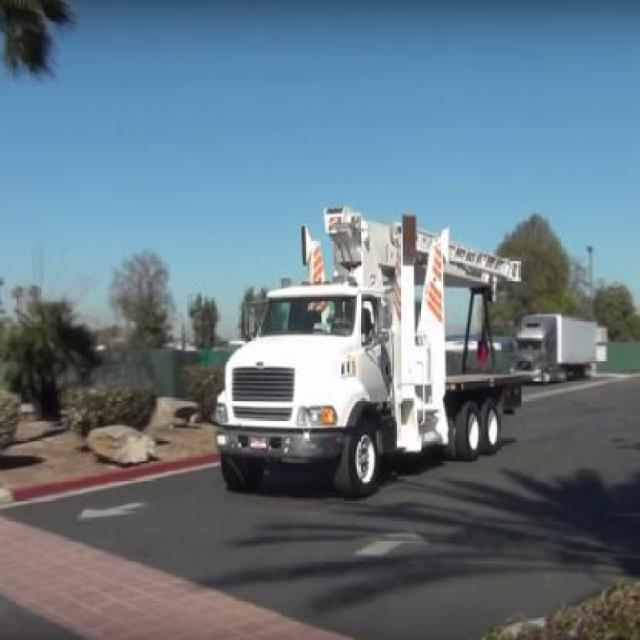Mobile Crane: (214, 208, 528, 492)
